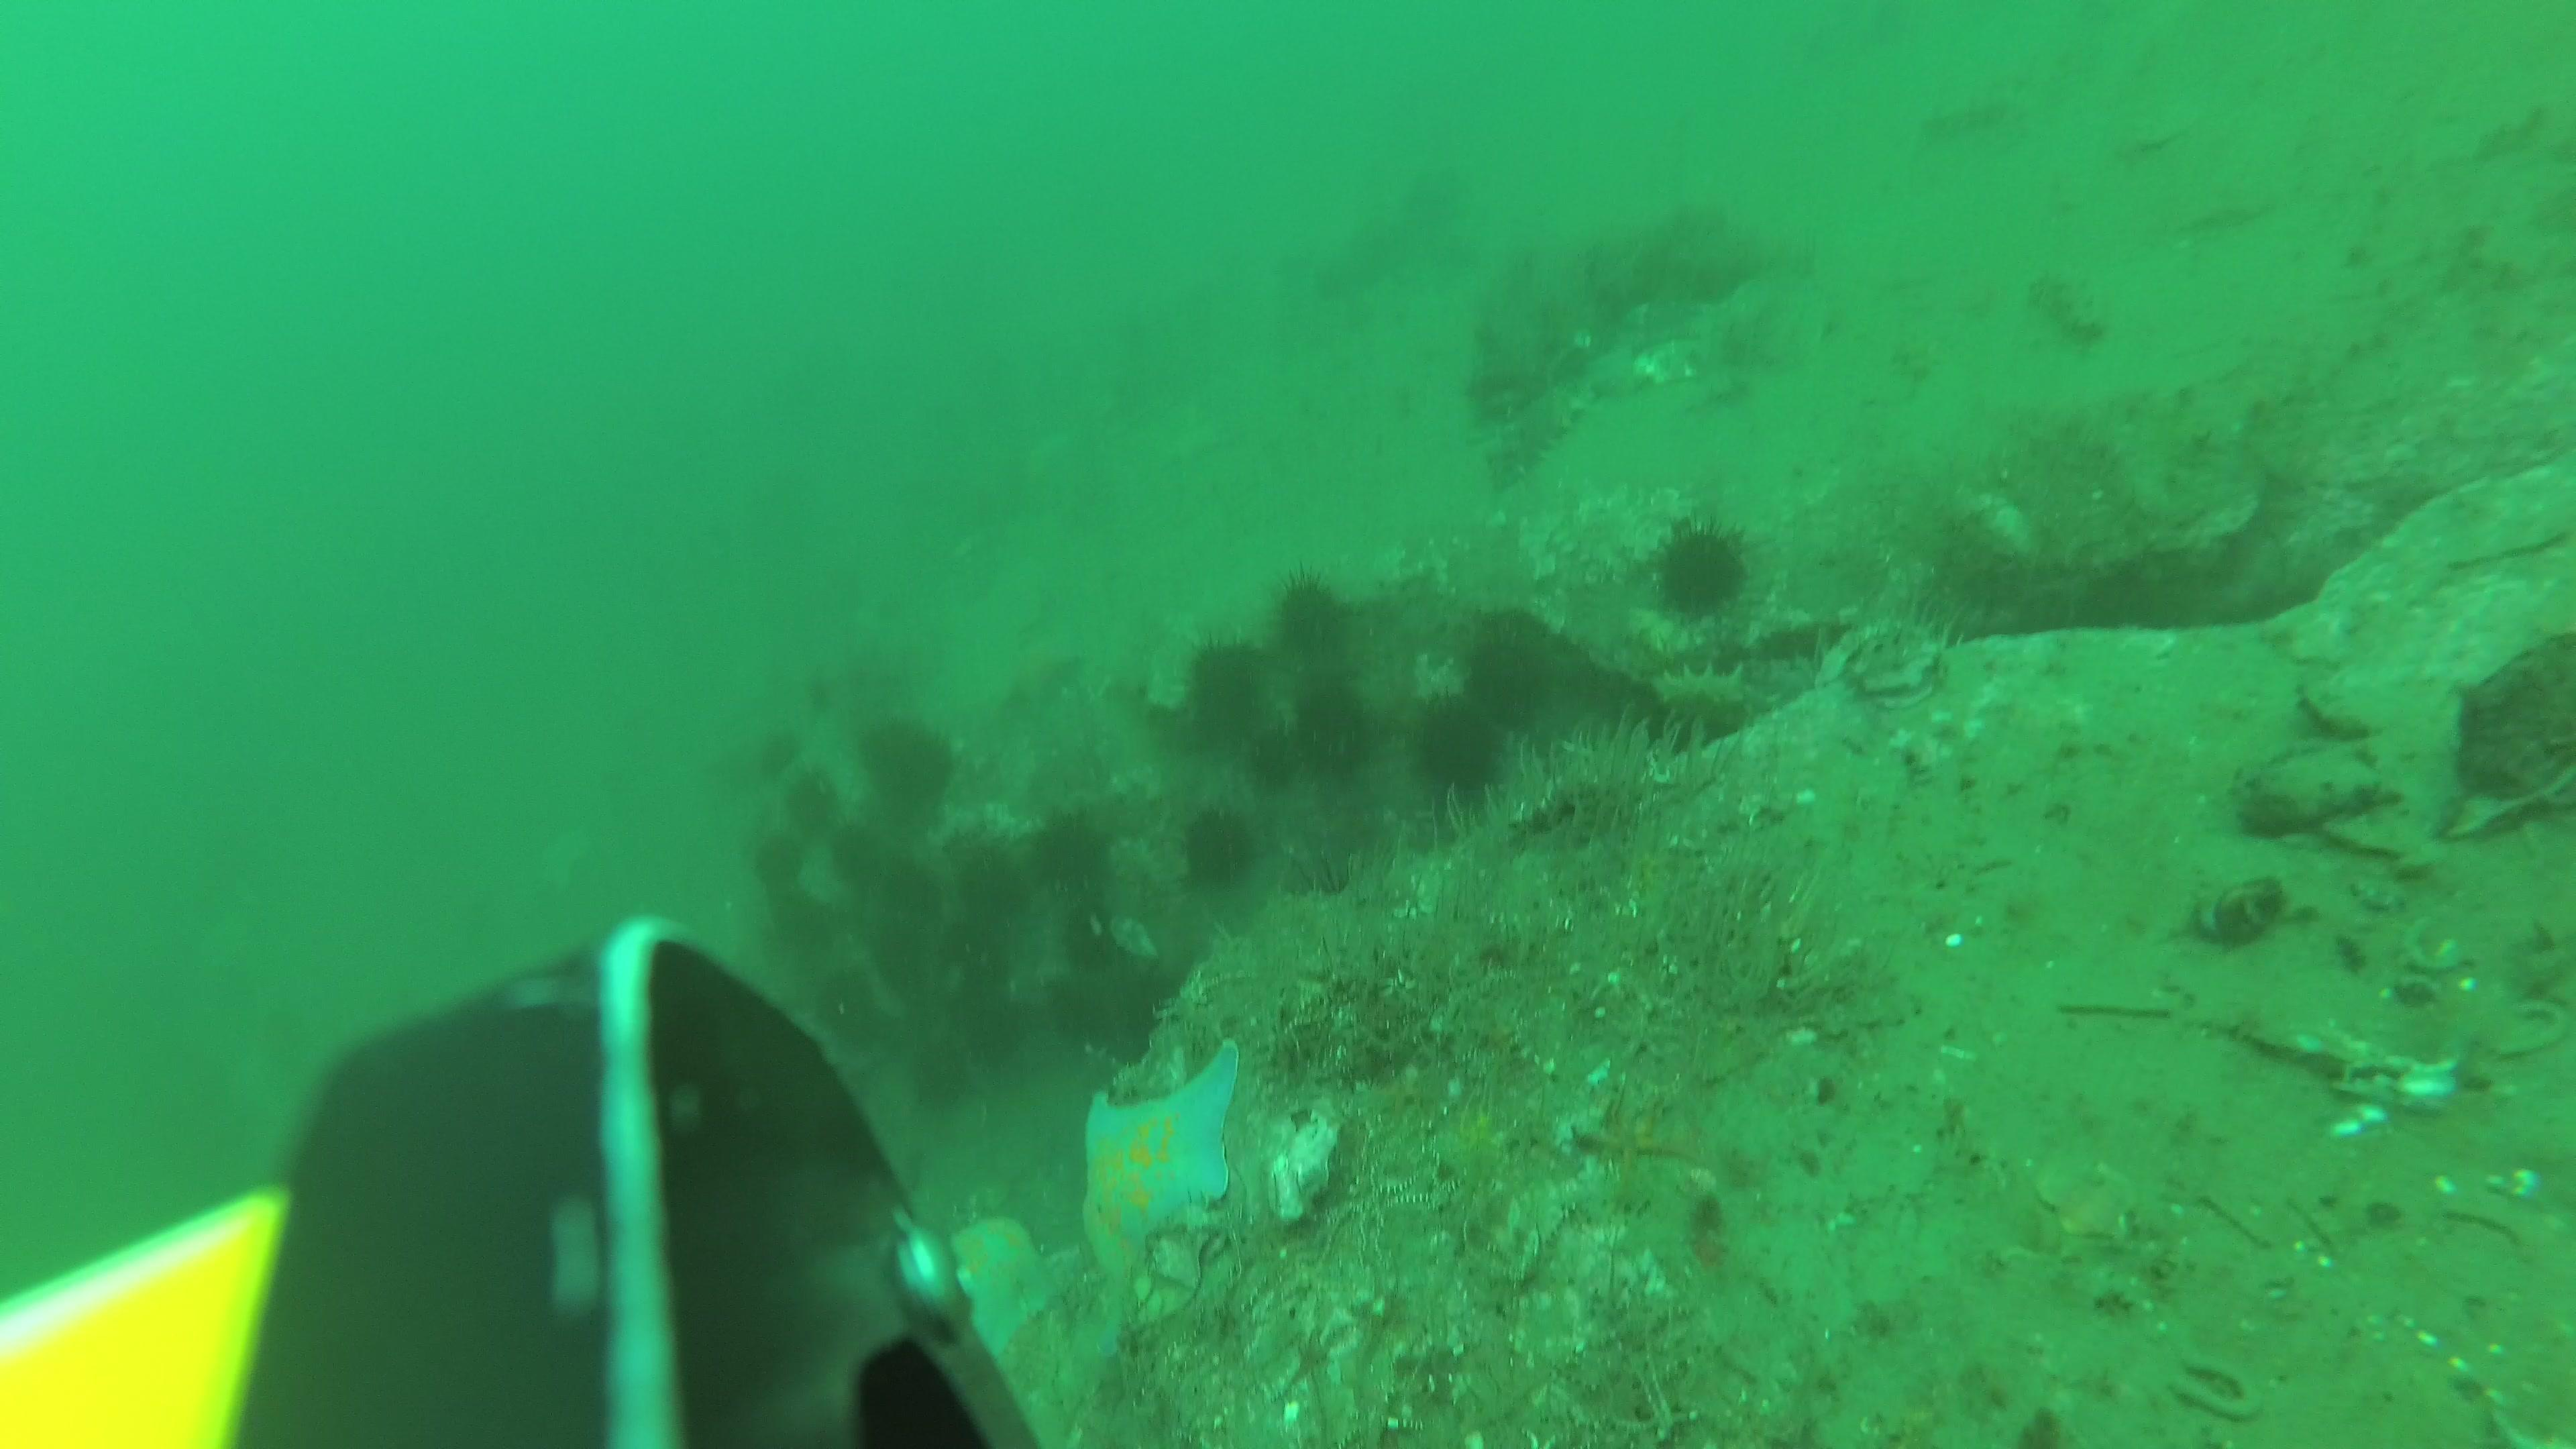echinus: (1645, 522, 1766, 633), (1407, 697, 1497, 800), (1270, 575, 1357, 676), (1189, 635, 1270, 741), (1293, 683, 1378, 784), (1024, 810, 1111, 899), (1180, 809, 1263, 901), (1111, 970, 1194, 1060), (1468, 635, 1546, 727), (775, 888, 835, 971), (959, 858, 1024, 934), (816, 817, 879, 890), (1047, 977, 1108, 1053), (819, 975, 885, 1044), (908, 1046, 975, 1111), (867, 929, 927, 1000), (902, 740, 959, 812), (961, 989, 1021, 1056), (895, 863, 950, 932), (748, 835, 812, 892), (1063, 904, 1118, 970), (1244, 727, 1302, 787), (863, 725, 915, 789), (794, 770, 839, 833), (752, 732, 801, 786), (961, 945, 1007, 1001)
holothurian: (1491, 377, 1592, 492), (1660, 667, 1796, 743), (1921, 90, 2031, 142), (2035, 271, 2109, 345), (1890, 336, 1943, 387)
scallop: (2035, 1152, 2143, 1244), (1637, 336, 1702, 391), (955, 1097, 996, 1138)
starfish: (1079, 1039, 1240, 1290), (948, 1219, 1069, 1362), (1575, 1092, 1697, 1214), (996, 646, 1079, 727), (1458, 1100, 1506, 1161)
